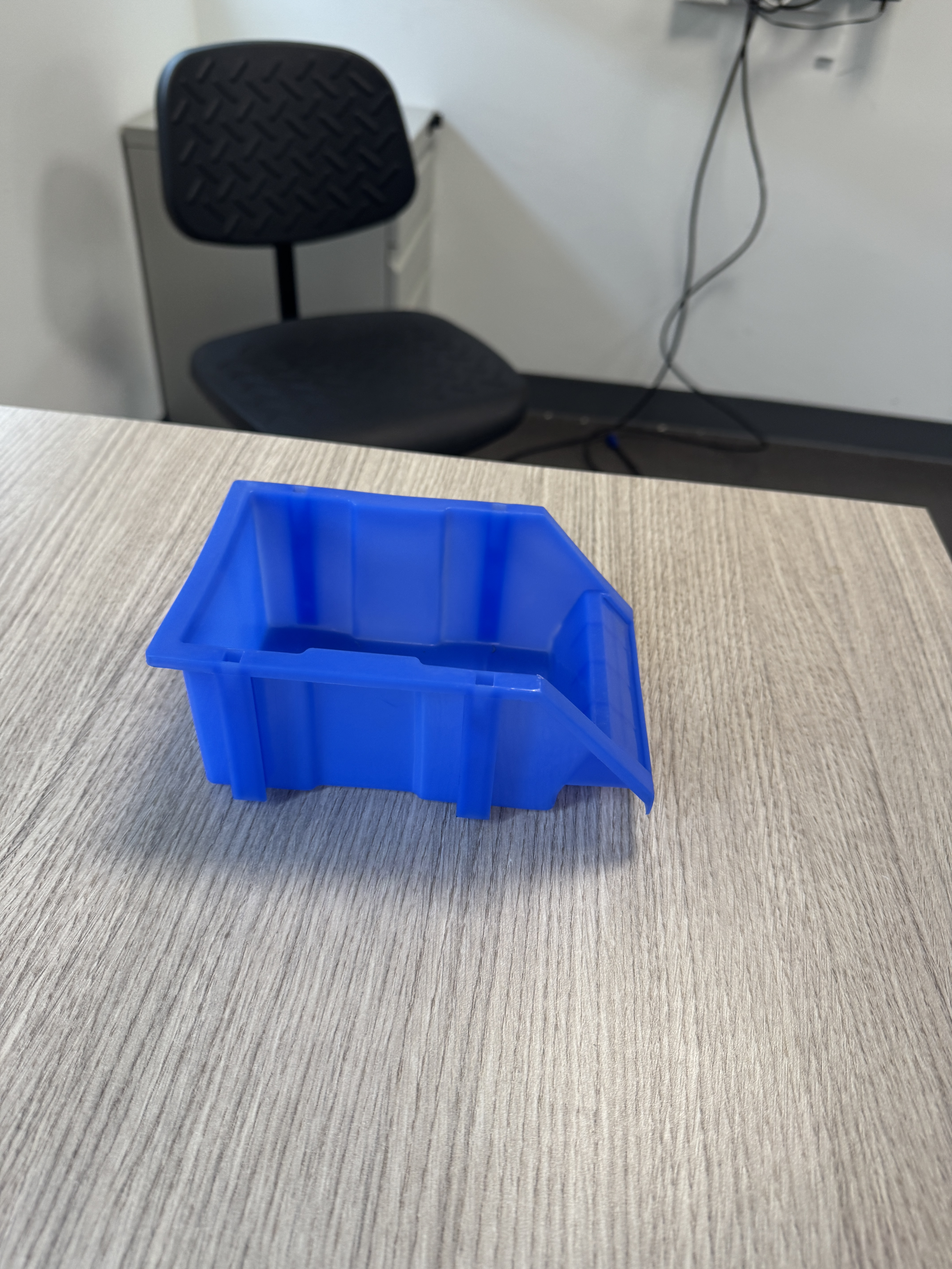Bin Boundary: (186, 450, 645, 732)
